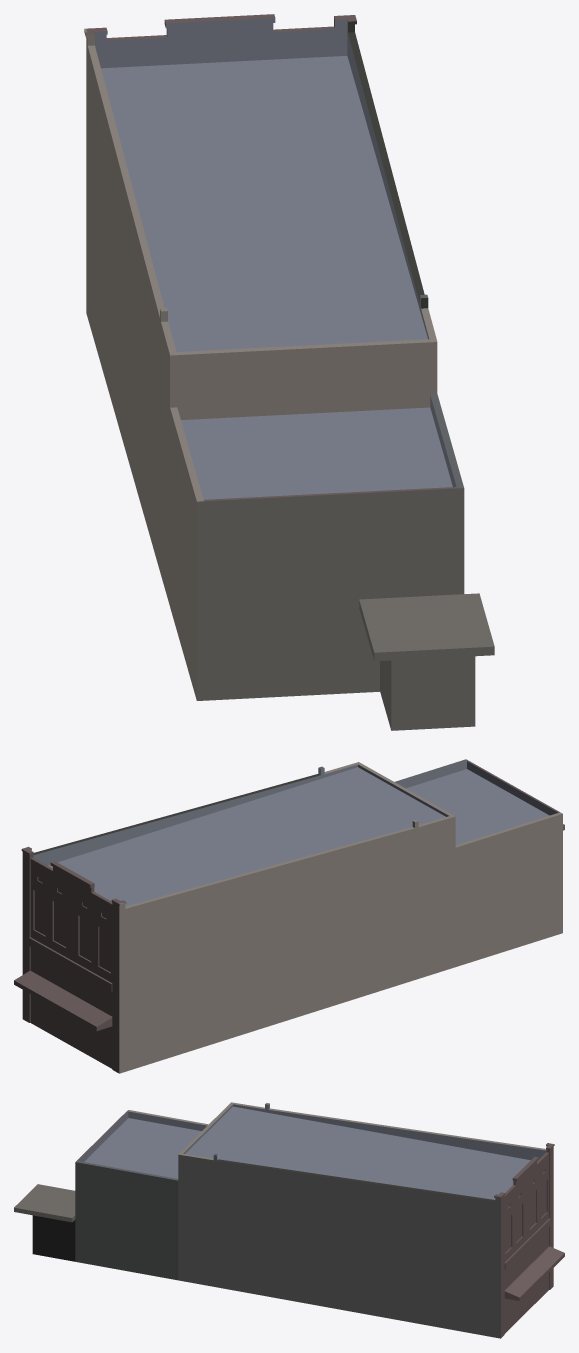
Rendered from 114-w-main-street.glb.
The picture shows the model from 3 angles, top to bottom: view 1: azimuth 30°, elevation 25°; view 2: azimuth 150°, elevation 25°; view 3: azimuth 270°, elevation 25°; orthographic projection. The views are drawn at different scales.
Visible parts, largest first — view 1: Geom3D; view 2: Geom3D; view 3: Geom3D.
Boxes of the visible parts, box(x1,y1,x2,y2) form: Geom3D: box(84, 14, 494, 730); Geom3D: box(14, 759, 564, 1073); Geom3D: box(14, 1102, 564, 1338).
Size of what is drawn, in the model's own units: 17.18 by 8.93 by 30.87.
1 material, 1 textured.
